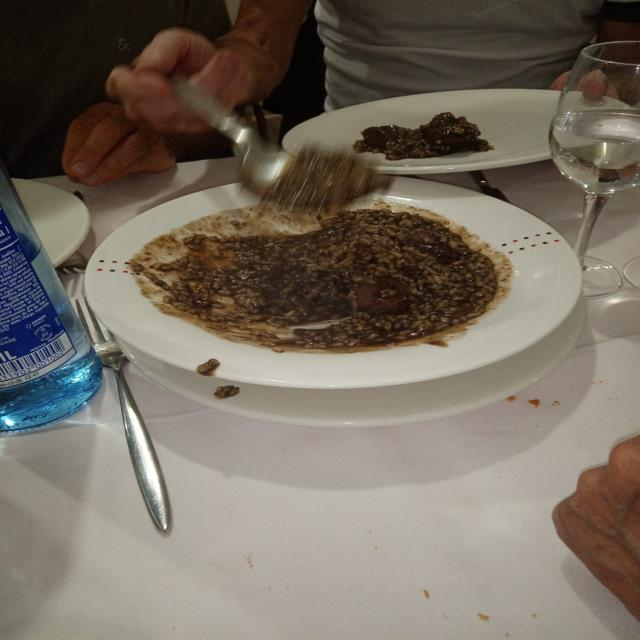cabidela rice: (130, 206, 512, 352)
cup: (549, 43, 640, 260)
fork: (94, 341, 172, 534), (87, 310, 104, 339)
plate: (85, 178, 585, 427)
